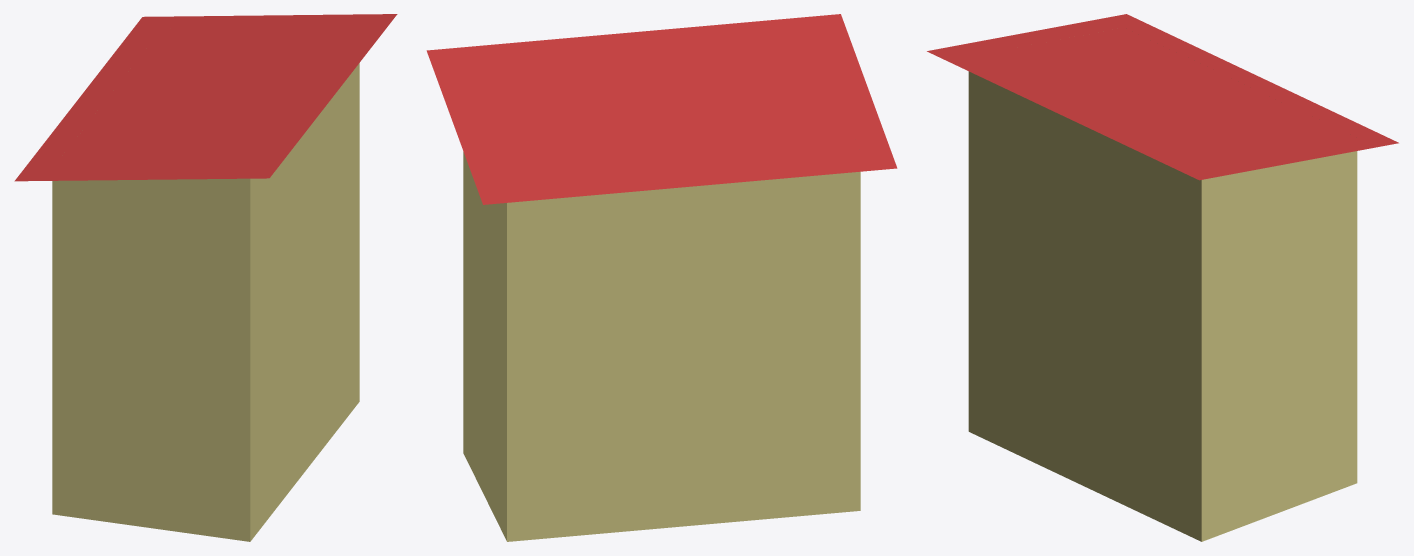
3 renders of one model, left to right at view 1: azimuth 30°, elevation 25°; view 2: azimuth 150°, elevation 25°; view 3: azimuth 270°, elevation 25°, orthographic. The views are drawn at different scales.
Bounding box in the file's own units: 8.06 × 7.87 × 6.96.
